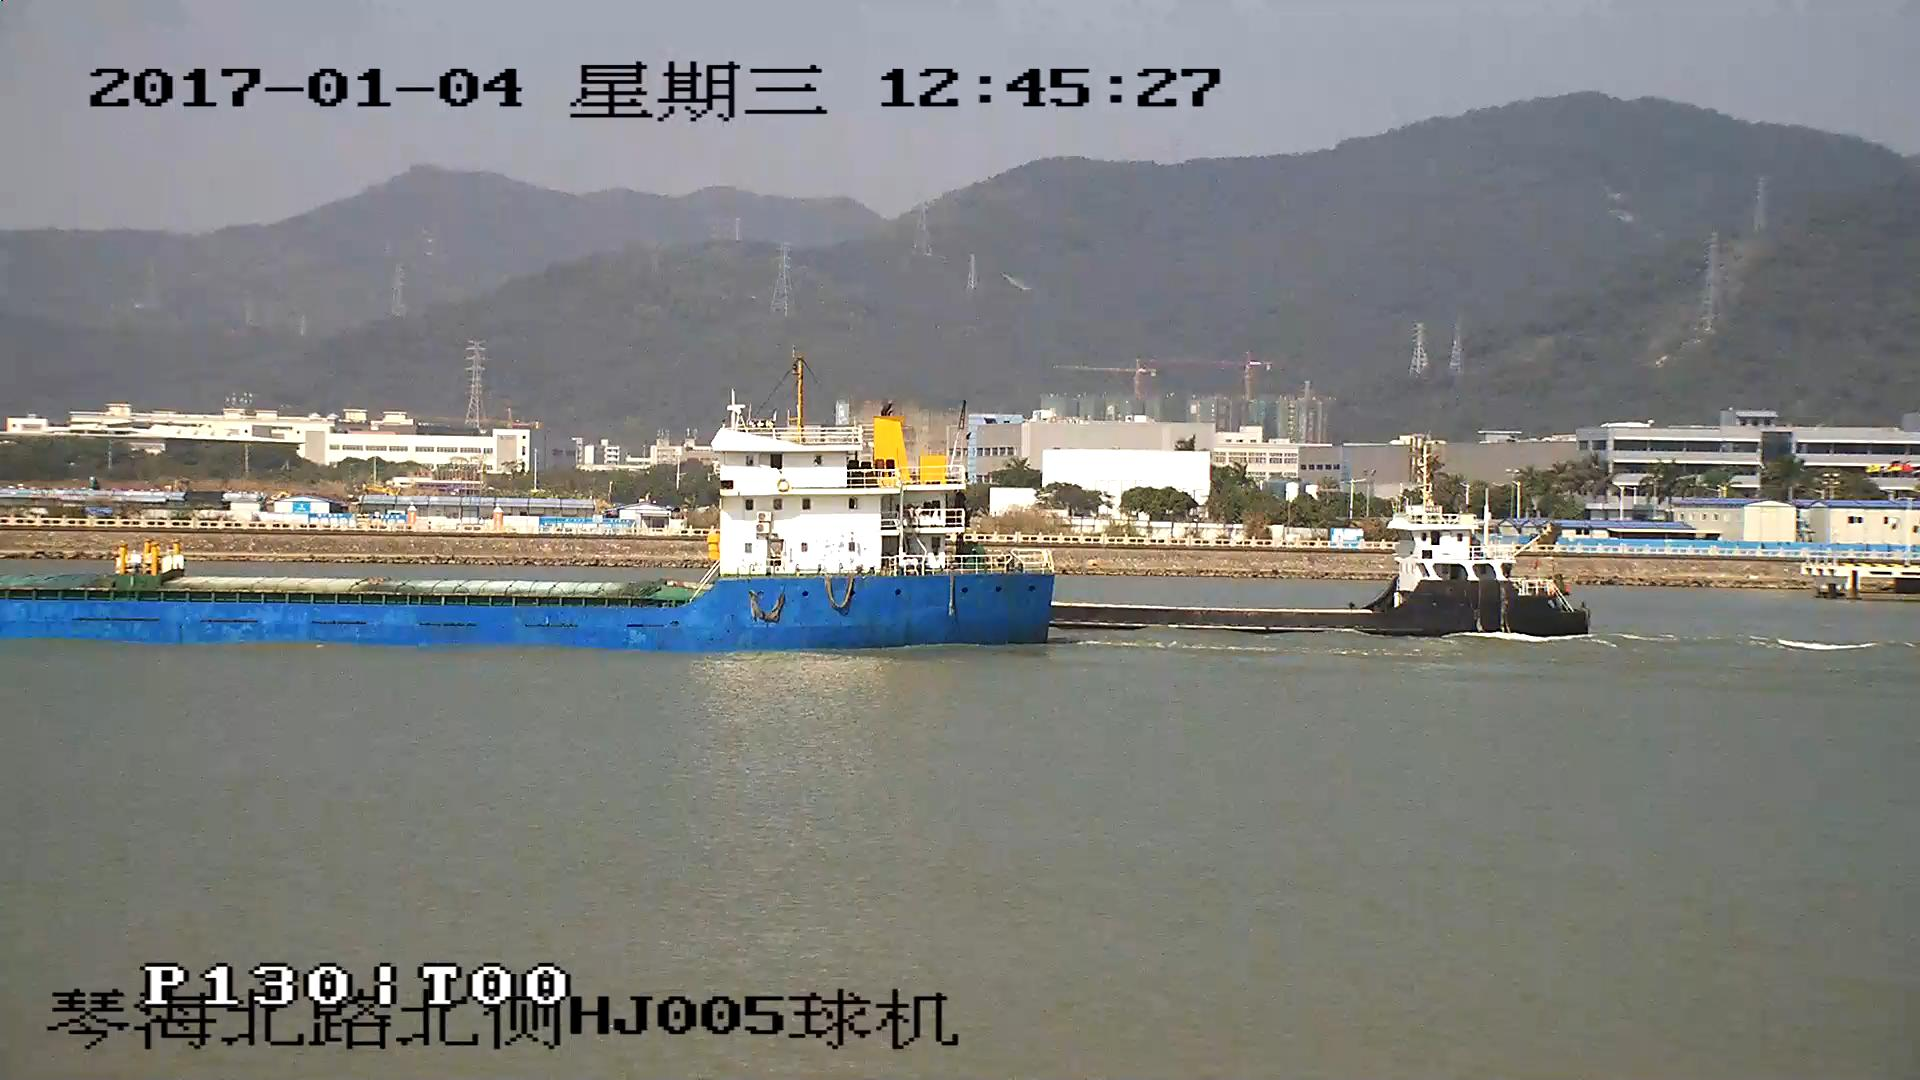general cargo ship: (1, 424, 1054, 653), (1054, 502, 1594, 638)
